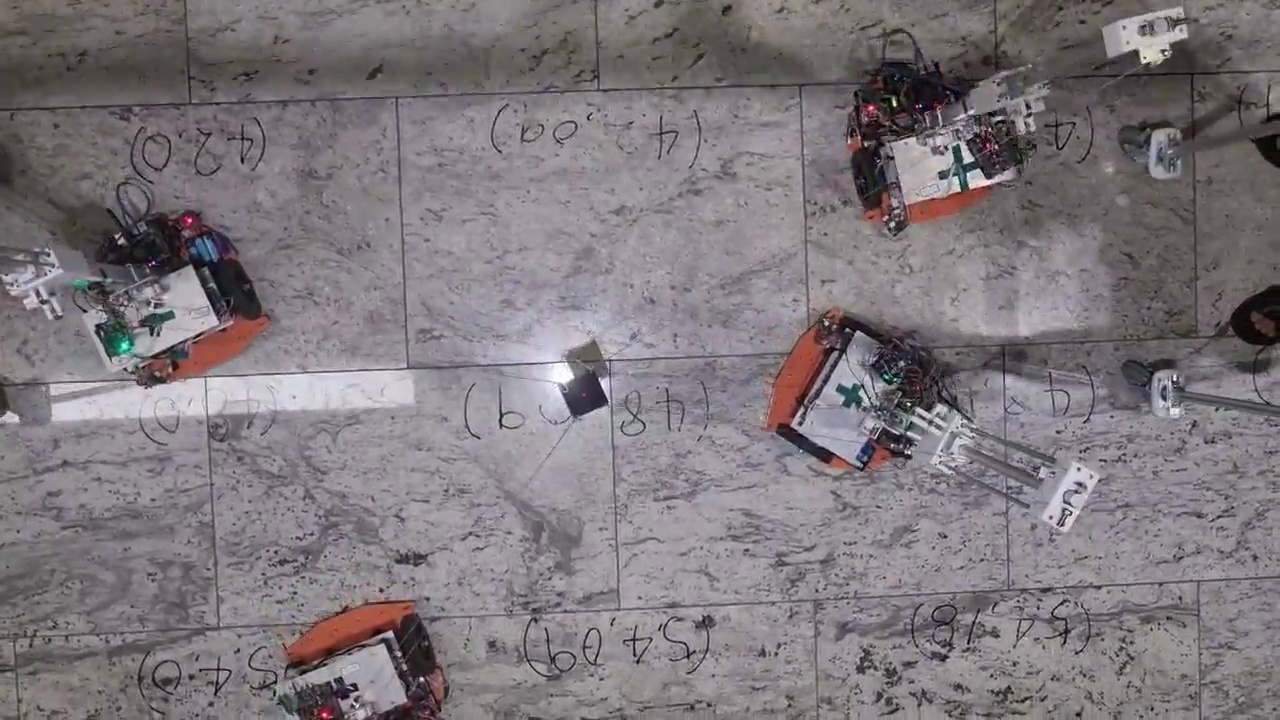e0: (560, 371, 607, 418)
r1: (774, 316, 896, 465)
r2: (850, 112, 1018, 213)
r3: (101, 257, 262, 376)
r4: (285, 623, 437, 718)
y_+_axis_vector: (610, 345, 1004, 360)
y_-_axis_vector: (206, 360, 611, 377)
